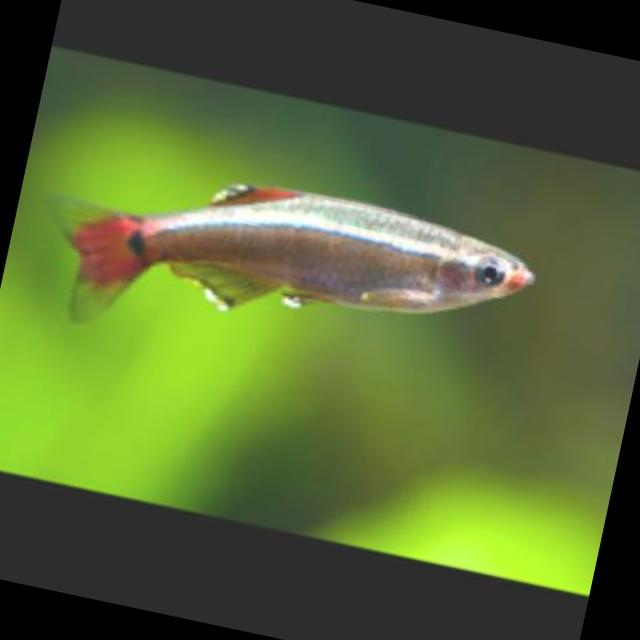ZebraFish: (18, 129, 547, 407)
